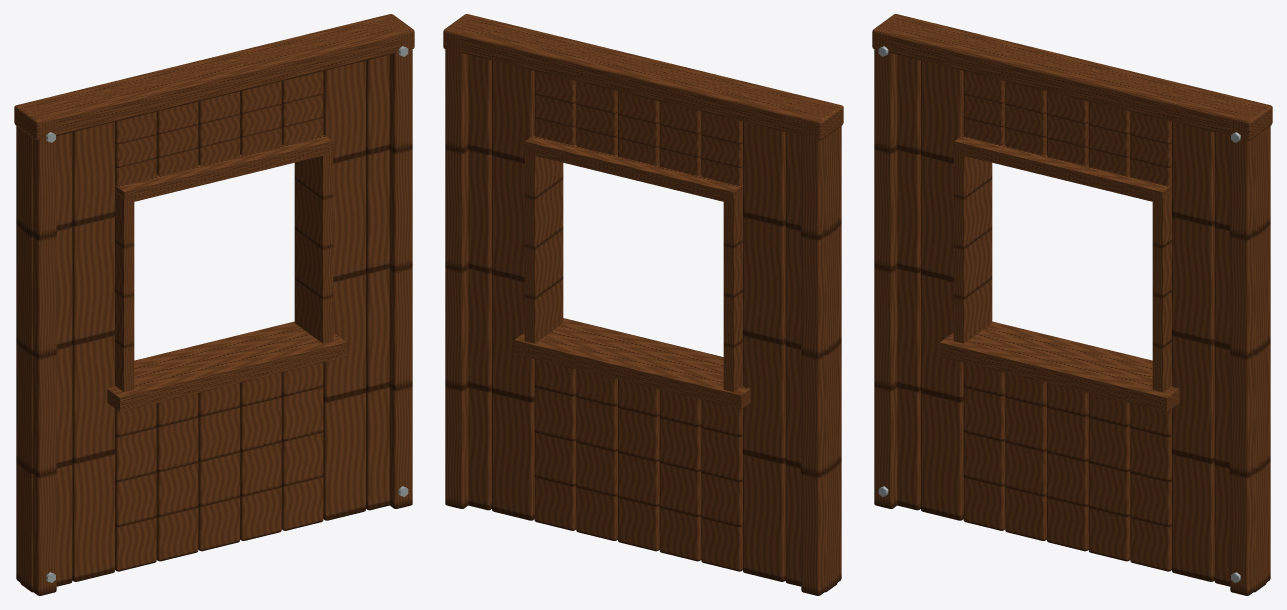
File: modular-survival-base-builder-wall-window-opening-3960f6ab__24154.glb
3 views of the same model, side by side, from view 1: azimuth 30°, elevation 25°; view 2: azimuth 150°, elevation 25°; view 3: azimuth 330°, elevation 25° (orthographic).
Parts seen in each view (by area): view 1: wall-window-opening; view 2: wall-window-opening; view 3: wall-window-opening.
Part boxes in pixels (bbox=[...]): wall-window-opening: bbox=[14, 14, 414, 595]; wall-window-opening: bbox=[443, 14, 843, 595]; wall-window-opening: bbox=[872, 14, 1272, 595].
Size of the model in its own units: 2 by 2.4 by 0.3199.
Materials: 2 (1 with a texture image).
